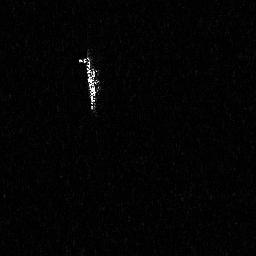ship: (77, 46, 104, 117)
